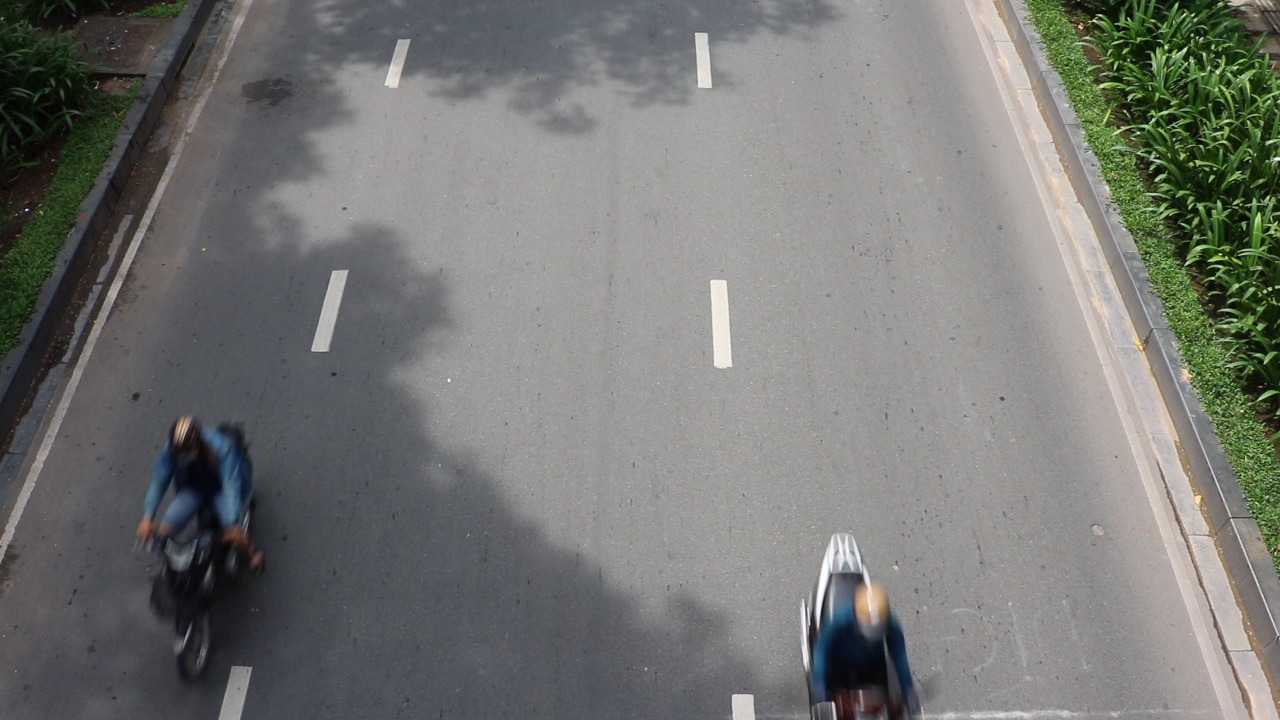motorcycle: (142, 509, 246, 682)
